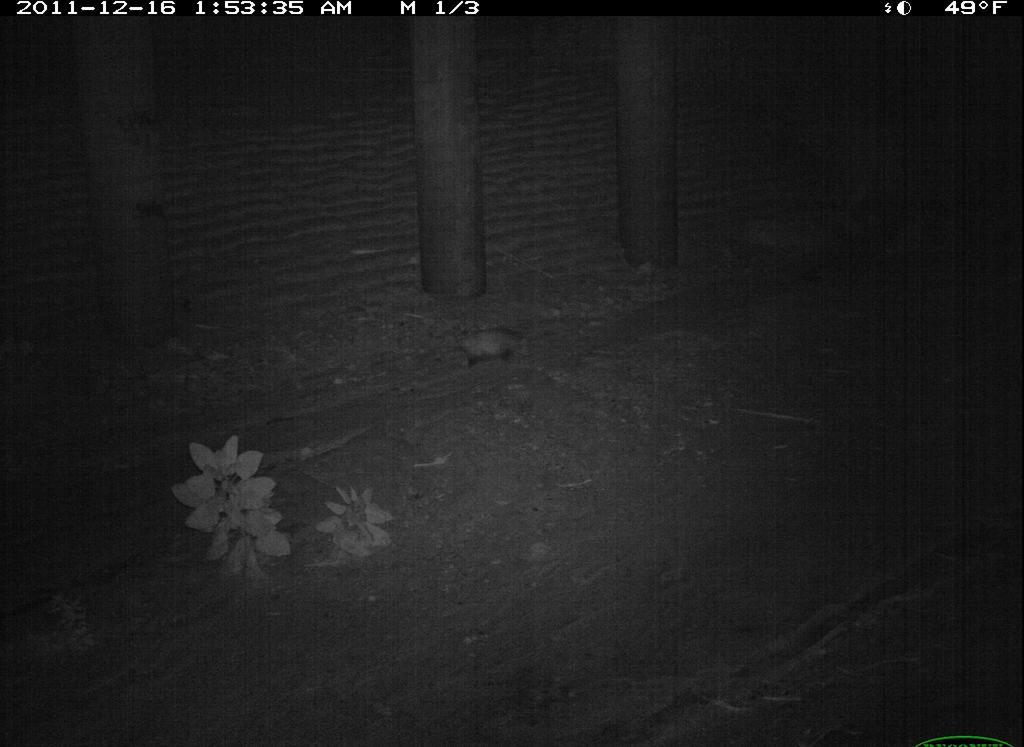opossum: (843, 643, 1024, 747)
